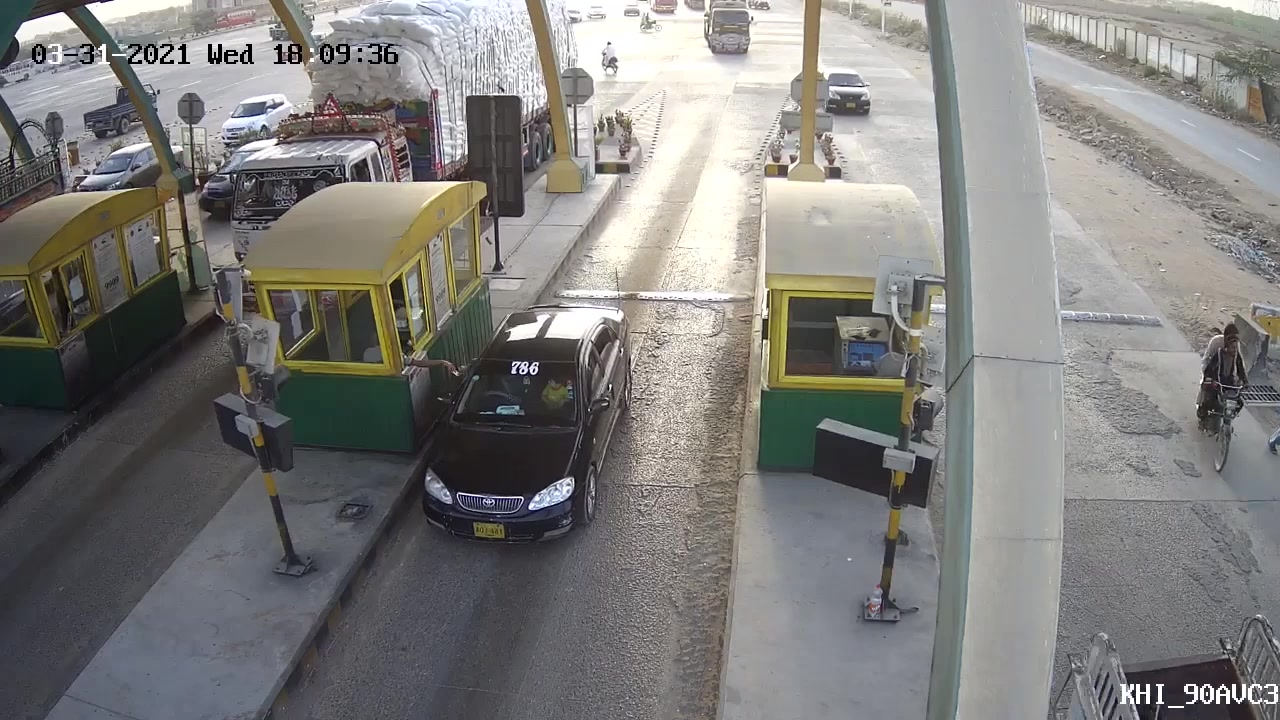F1: (417, 293, 637, 547)
